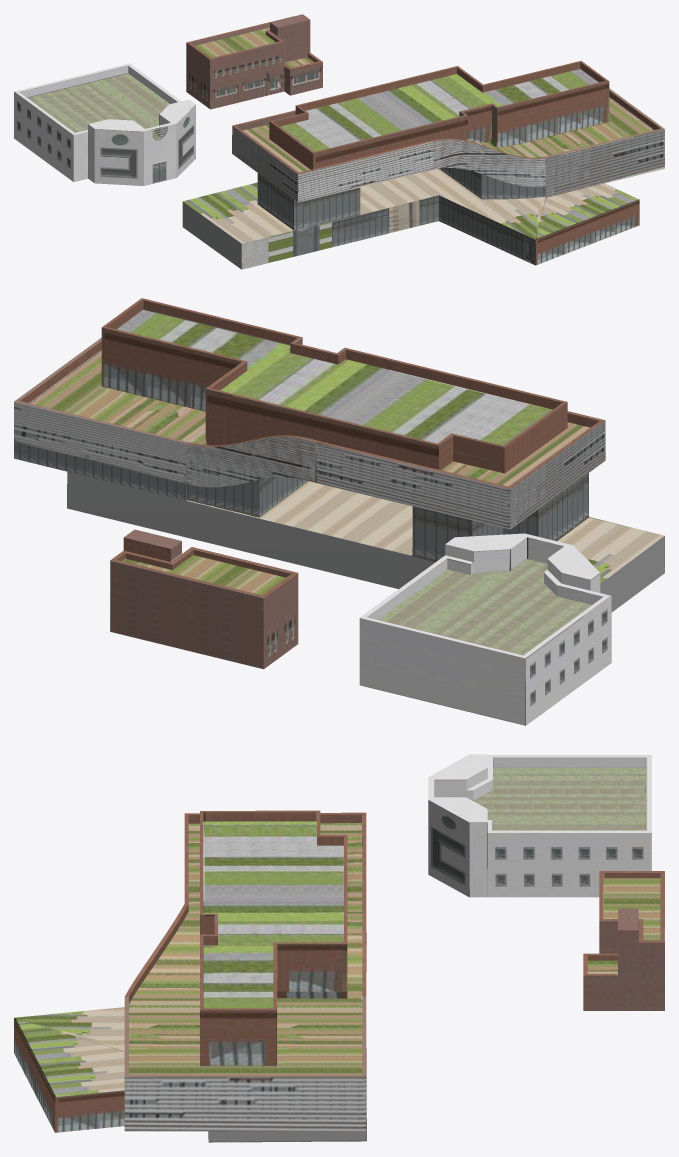
The model's file is ICJ00007.glb.
3 renders of one model, top to bottom at view 1: azimuth 30°, elevation 25°; view 2: azimuth 150°, elevation 25°; view 3: azimuth 270°, elevation 25°, orthographic. The views are drawn at different scales.
Visible parts, largest first — view 1: MainBuilding; view 2: MainBuilding; view 3: MainBuilding.
Part boxes in pixels (x1=…): MainBuilding: x1=14, y1=14, x2=664, y2=269; MainBuilding: x1=14, y1=298, x2=664, y2=725; MainBuilding: x1=14, y1=754, x2=664, y2=1142.
Size of the model in its own units: 2662 by 559 by 2373.
Materials: 1 (1 with a texture image).
